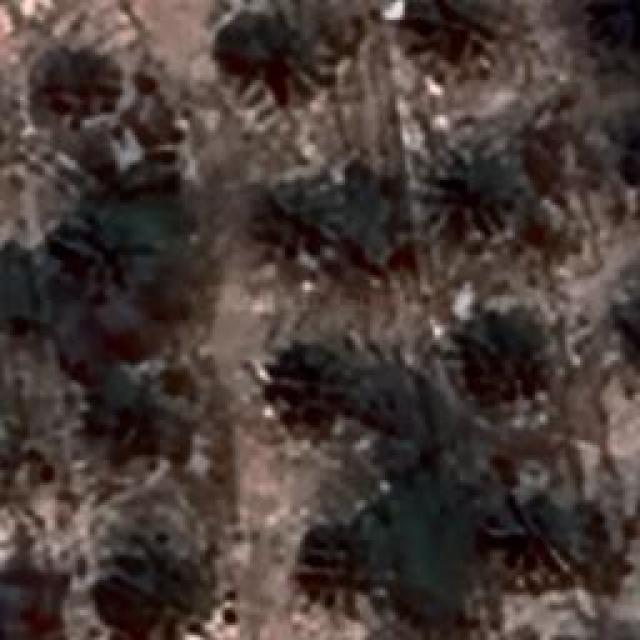PalmTree: (51, 29, 614, 74), (228, 0, 330, 105), (295, 520, 390, 612), (68, 212, 150, 308), (499, 510, 589, 595), (108, 552, 194, 640), (446, 142, 526, 235), (87, 381, 175, 461), (394, 0, 496, 65), (471, 318, 551, 394), (274, 350, 346, 428), (268, 175, 340, 250), (610, 106, 640, 206), (0, 575, 39, 640), (614, 286, 640, 382), (621, 288, 640, 379), (622, 106, 640, 202), (628, 290, 640, 380)
